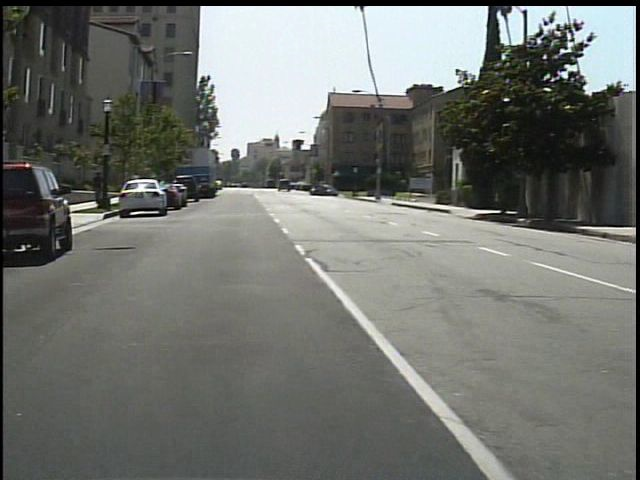person: (86, 167, 99, 208)
